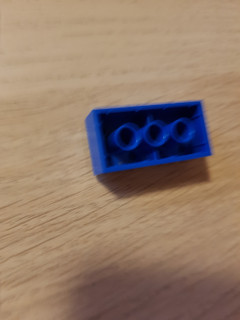2x4 blue: (85, 100, 213, 176)
